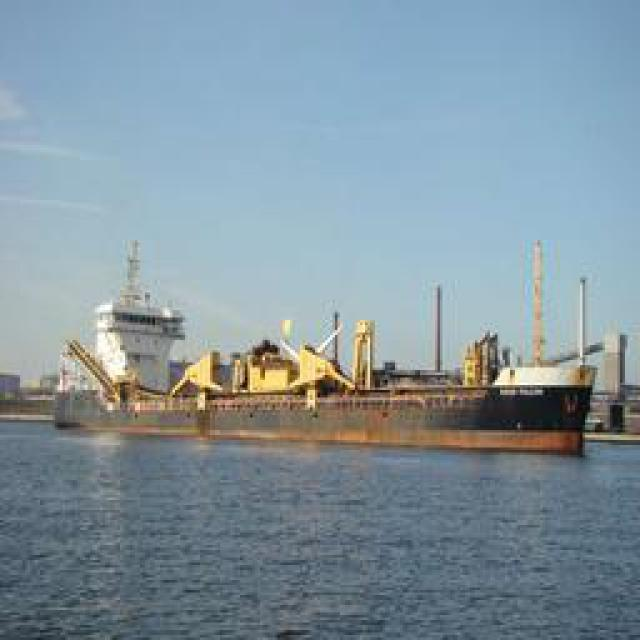Ship: (66, 350, 594, 448)
